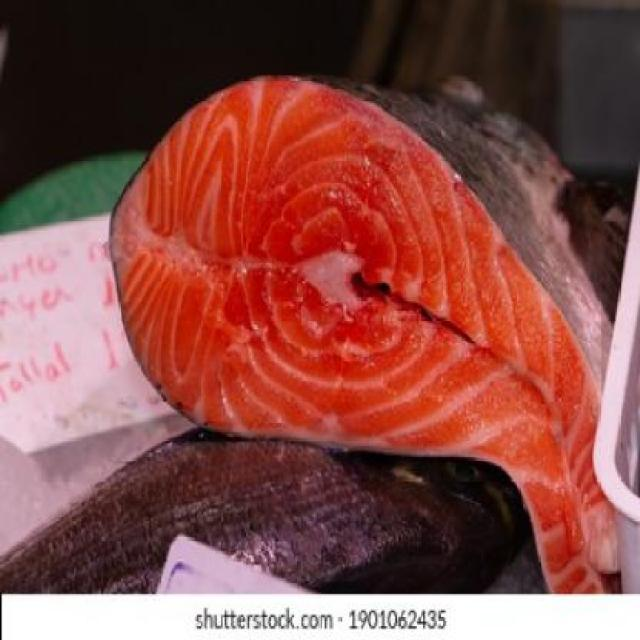salmon: (100, 53, 640, 592)
